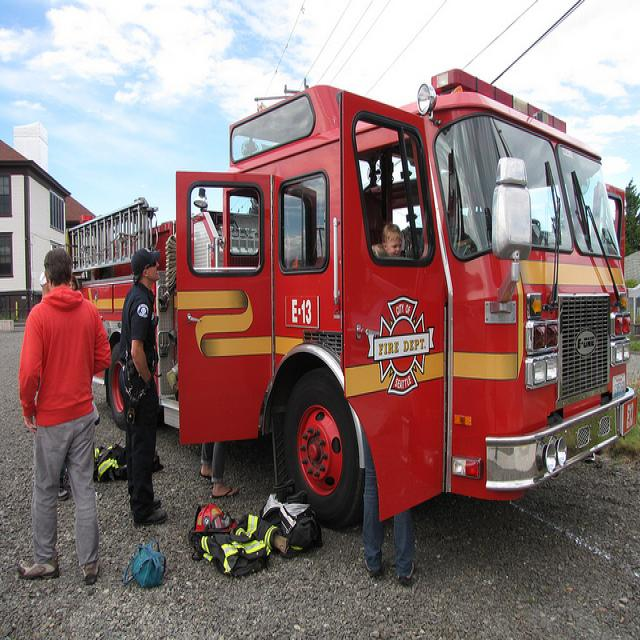Vehicle: (69, 70, 634, 516)
